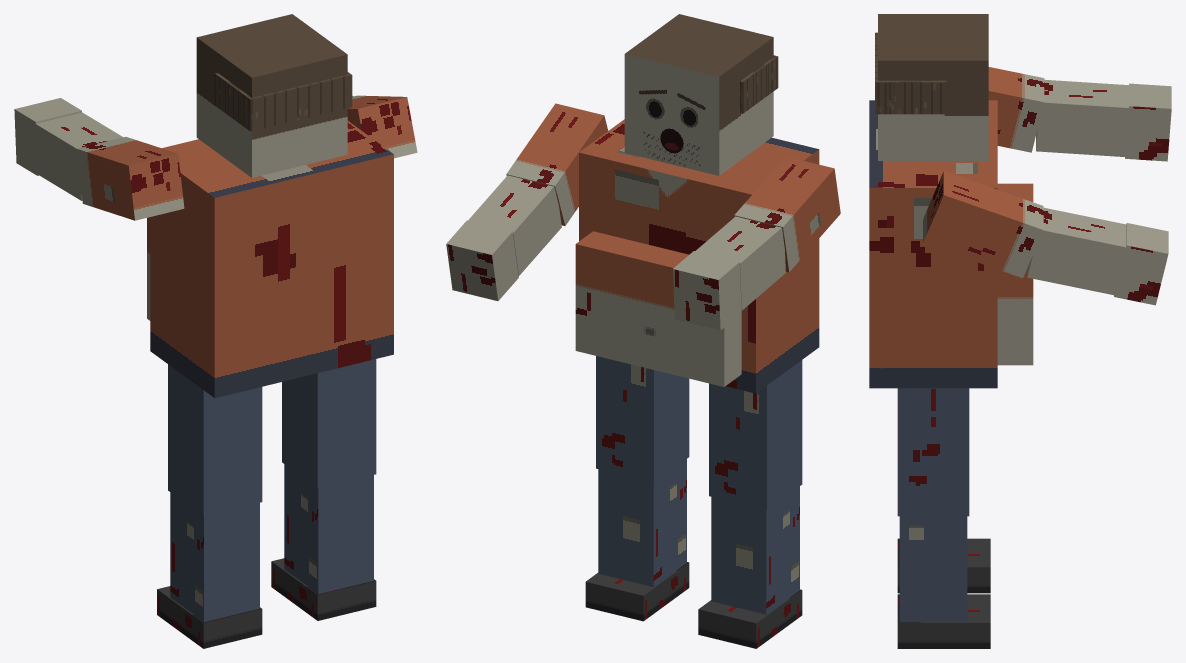
Rendered from mon_zombie_fat.glb.
3 views of the same model, side by side, from view 1: azimuth 30°, elevation 25°; view 2: azimuth 150°, elevation 25°; view 3: azimuth 270°, elevation 25° (orthographic).
Parts seen in each view (by area): view 1: block_torso, block_head, block_thigh.L, block_thigh.R, block_shin.L, block_shin.R, block_upper_arm.L, block_hair-ring-back, block_forearm.L, block_upper_arm.R, block_foot.L, block_foot.R (+2 smaller); view 2: block_torso, block_head, block_belly, block_thigh.L, block_thigh.R, block_shin.L, block_shin.R, block_upper_arm.L, block_upper_arm.R, block_forearm.R, block_hand.L, block_hand.R (+4 smaller); view 3: block_torso, block_head, block_thigh.R, block_upper_arm.R, block_shin.R, block_forearm.L, block_forearm.R, block_belly, block_upper_arm.L, block_hand.L, block_hand.R, block_foot.R (+3 smaller).
Part boxes in pixels (left/top/right/bottom): block_torso: left=150, top=121, right=393, bottom=398; block_head: left=196, top=14, right=347, bottom=177; block_thigh.L: left=168, top=364, right=262, bottom=516; block_thigh.R: left=282, top=359, right=376, bottom=488; block_shin.L: left=170, top=492, right=259, bottom=621; block_shin.R: left=284, top=464, right=373, bottom=593; block_upper_arm.L: left=76, top=137, right=184, bottom=220; block_hair-ring-back: left=240, top=72, right=352, bottom=131; block_forearm.L: left=35, top=112, right=122, bottom=200; block_upper_arm.R: left=347, top=95, right=417, bottom=158; block_foot.L: left=157, top=586, right=262, bottom=648; block_foot.R: left=271, top=558, right=376, bottom=620; block_torso: left=579, top=119, right=819, bottom=393; block_head: left=624, top=14, right=773, bottom=175; block_belly: left=575, top=231, right=741, bottom=386; block_thigh.L: left=709, top=360, right=802, bottom=510; block_thigh.R: left=596, top=356, right=689, bottom=482; block_shin.L: left=711, top=486, right=799, bottom=614; block_shin.R: left=598, top=459, right=686, bottom=586; block_upper_arm.L: left=734, top=156, right=840, bottom=272; block_upper_arm.R: left=506, top=103, right=608, bottom=225; block_forearm.R: left=468, top=175, right=561, bottom=275; block_hand.L: left=673, top=251, right=741, bottom=330; block_hand.R: left=446, top=220, right=518, bottom=300; block_torso: left=869, top=100, right=997, bottom=388; block_head: left=878, top=14, right=988, bottom=160; block_thigh.R: left=897, top=388, right=969, bottom=516; block_upper_arm.R: left=923, top=171, right=1043, bottom=278; block_shin.R: left=899, top=516, right=967, bottom=622; block_forearm.L: left=1036, top=79, right=1128, bottom=156; block_forearm.R: left=1027, top=207, right=1126, bottom=295; block_belly: left=997, top=183, right=1033, bottom=365; block_upper_arm.L: left=988, top=67, right=1044, bottom=152; block_hand.L: left=1125, top=83, right=1171, bottom=161; block_hand.R: left=1114, top=223, right=1168, bottom=305; block_foot.R: left=897, top=594, right=990, bottom=648.
Bounding box in the file's own units: 0.908 × 1.76 × 0.8476.
Materials: 1 (1 with a texture image).
